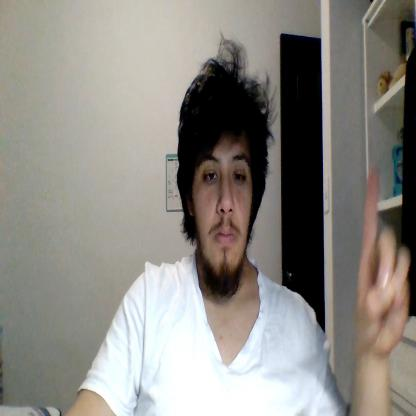D: (356, 163, 410, 353)
